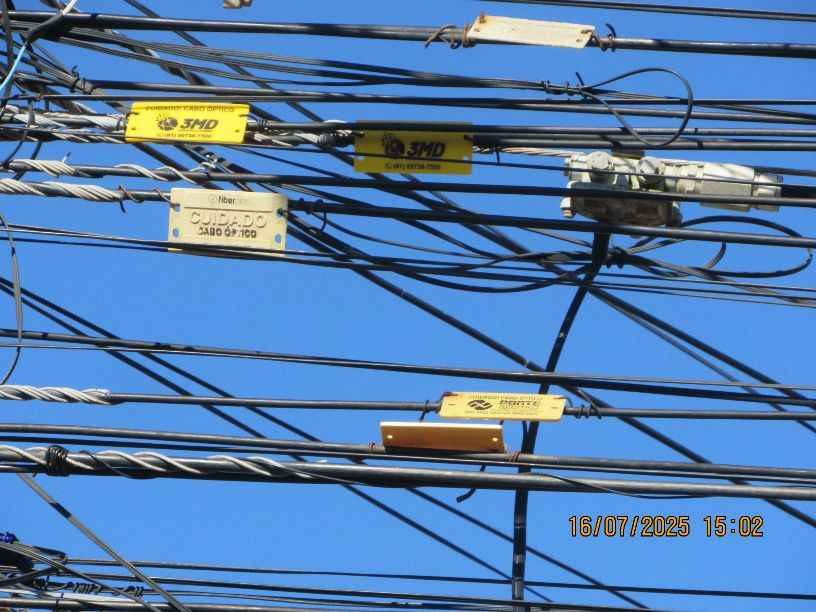fibra_optica: (45, 185, 301, 280), (168, 418, 519, 480), (247, 365, 584, 425), (332, 118, 564, 178), (341, 6, 612, 56), (30, 96, 273, 145)
